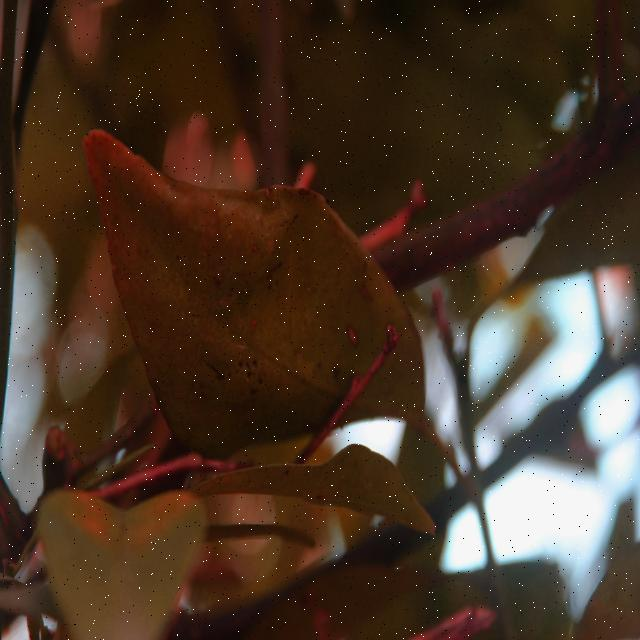canker: (183, 210, 366, 410)
